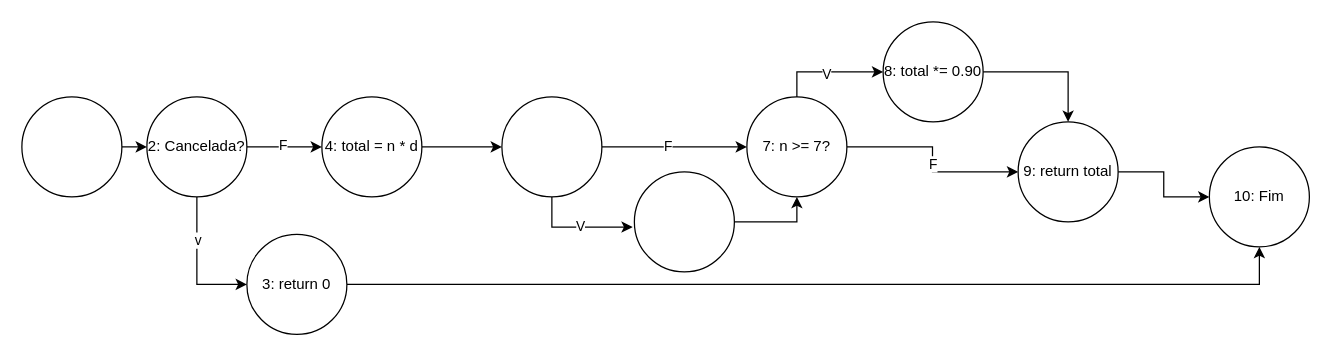
Some shapes in this 1331 by 356 pixel diagram are drawn without their labels. Here are the shapes that lost their labels. From the top down, the centre of each, then its label:
At point (71, 146): "1: Início".
At point (551, 146): "5: cafeDaManha?".
At point (683, 221): "6: total += n*30".
